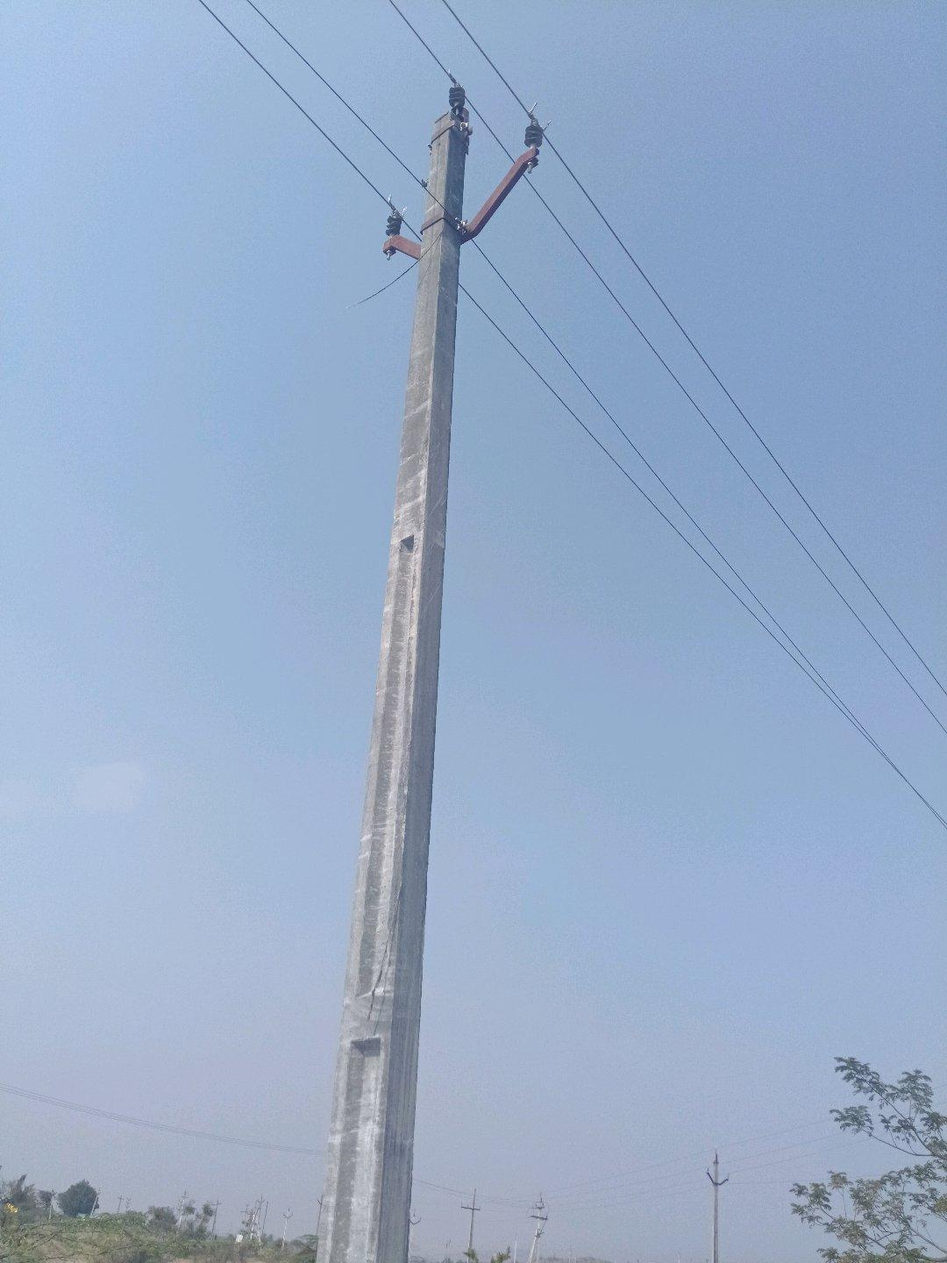{"0" "insulator", "1" "pole", "2" "crossarm", "3" "conductor", "4" "street_: (317, 85, 541, 1262), (696, 1147, 740, 1262), (680, 1259, 685, 1262), (700, 1204, 701, 1207)
